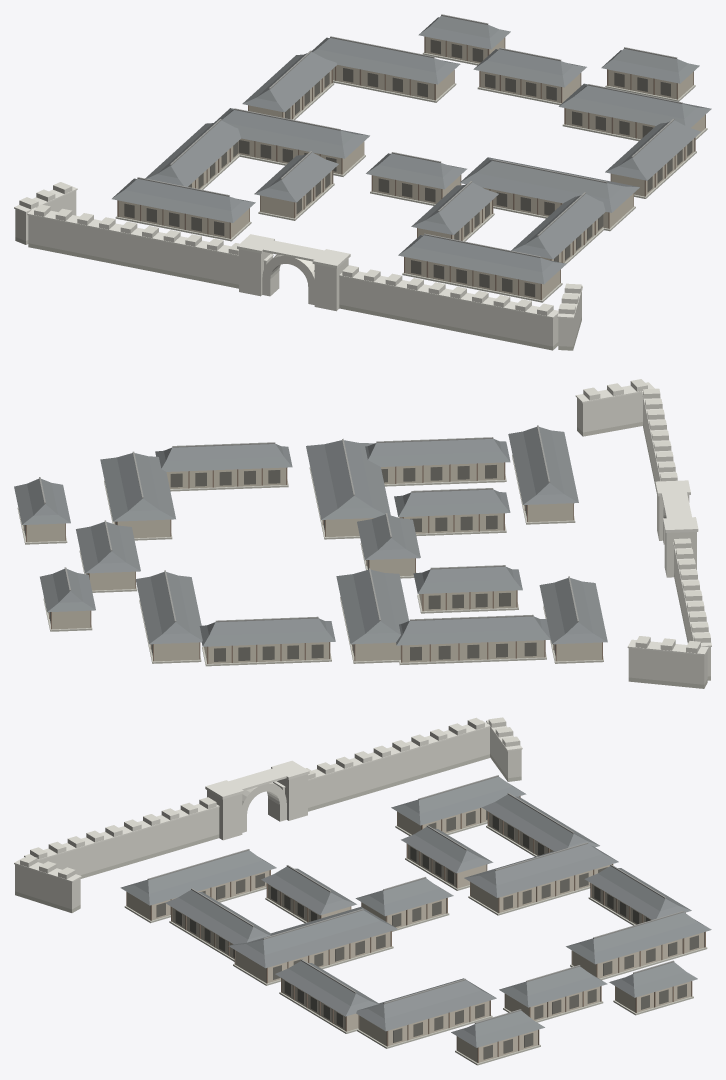
The model's file is set2.glb.
3 views of the same model, one above another, from view 1: azimuth 30°, elevation 25°; view 2: azimuth 150°, elevation 25°; view 3: azimuth 270°, elevation 25° (orthographic). The views are drawn at different scales.
Visible parts, largest first — view 1: Set 2 long wall and tiled village; view 2: Set 2 long wall and tiled village; view 3: Set 2 long wall and tiled village.
Part boxes in pixels (<box>): Set 2 long wall and tiled village: <box>14,14,711,350</box>; Set 2 long wall and tiled village: <box>14,379,711,688</box>; Set 2 long wall and tiled village: <box>14,717,711,1065</box>.
Bounding box in the file's own units: 116 × 7.55 × 108.
